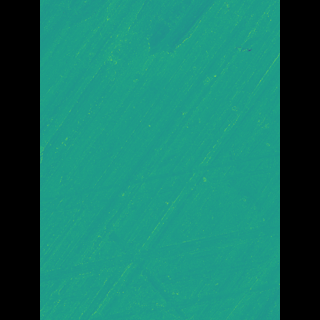Loch: (69, 208, 252, 289), (99, 226, 251, 320), (69, 143, 250, 204)
